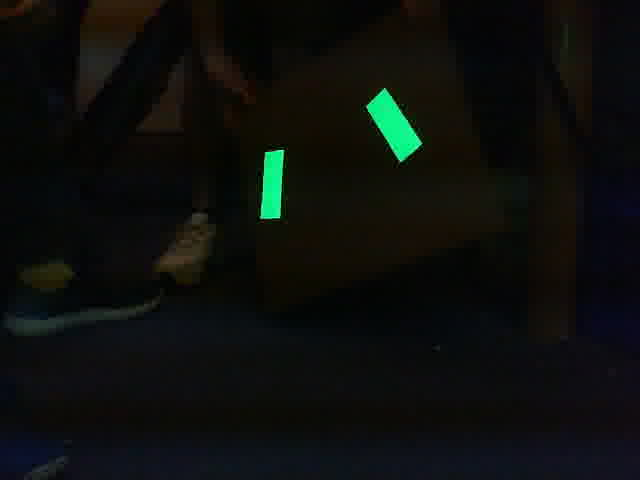target: (259, 85, 423, 219)
